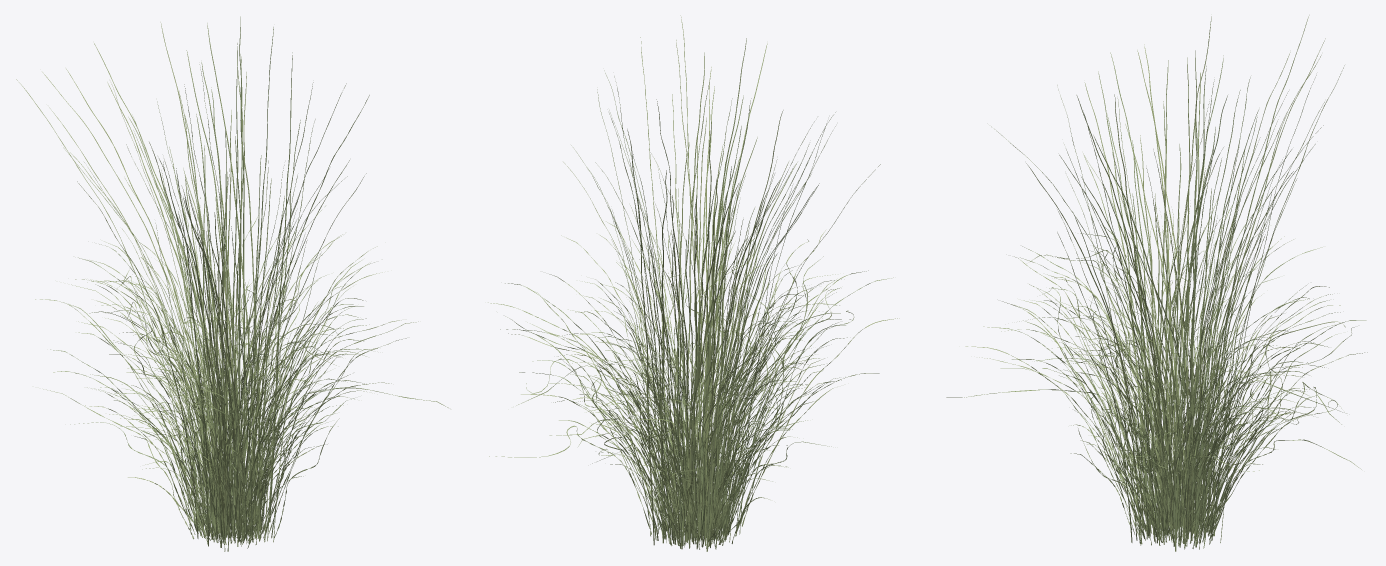
Rendered from grass_seedhead.glb.
3 renders of one model, left to right at view 1: azimuth 30°, elevation 25°; view 2: azimuth 150°, elevation 25°; view 3: azimuth 270°, elevation 25°, orthographic.
Parts seen in each view (by area): view 1: bq_Grass_Panicum-virgatum_E_spring; view 2: bq_Grass_Panicum-virgatum_E_spring; view 3: bq_Grass_Panicum-virgatum_E_spring.
Boxes of the visible parts, bbox=[...] form: bq_Grass_Panicum-virgatum_E_spring: bbox=[16, 16, 448, 551]; bq_Grass_Panicum-virgatum_E_spring: bbox=[488, 15, 899, 551]; bq_Grass_Panicum-virgatum_E_spring: bbox=[946, 15, 1367, 551].
Size of the model in its own units: 1.32 by 1.71 by 1.42.
1 material, 1 textured.
